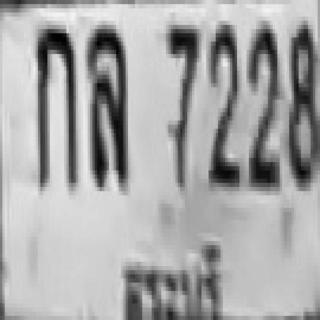A01: (33, 23, 76, 185)
A36: (85, 21, 128, 187)
N02: (207, 23, 238, 185), (247, 23, 277, 185)
N07: (164, 21, 197, 187)
N08: (284, 19, 320, 185)
P60: (117, 236, 226, 320)
